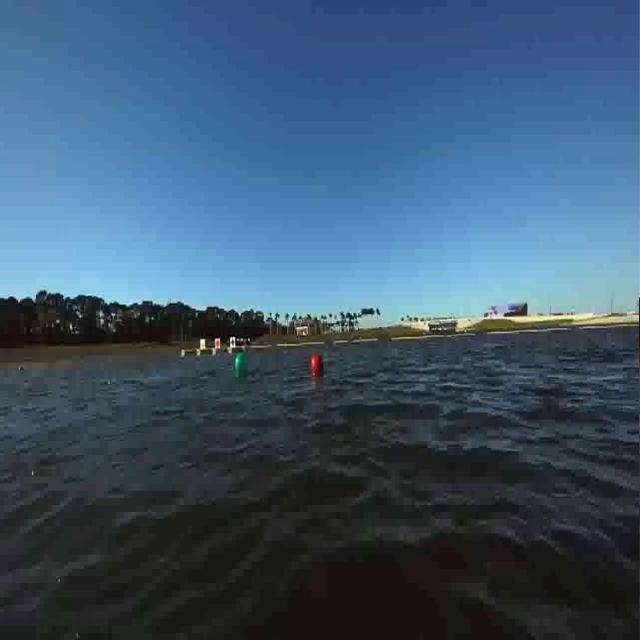green-buoy: (236, 352, 250, 373)
red-buoy: (312, 355, 325, 372)
